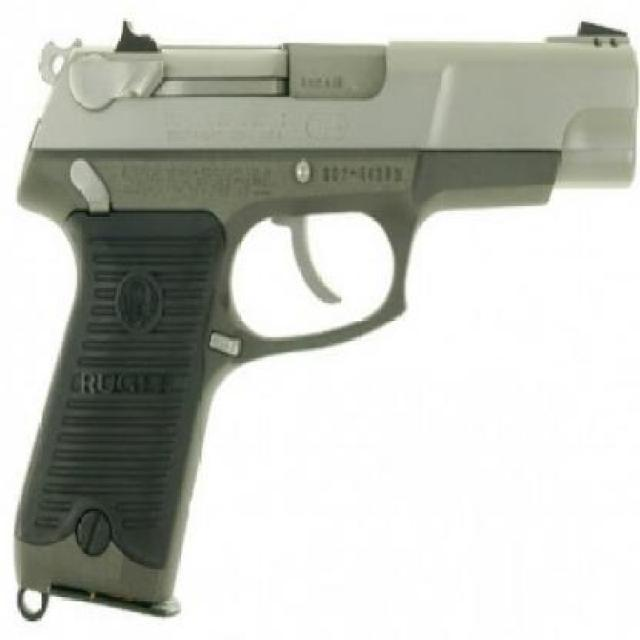gun: (0, 13, 622, 607)
